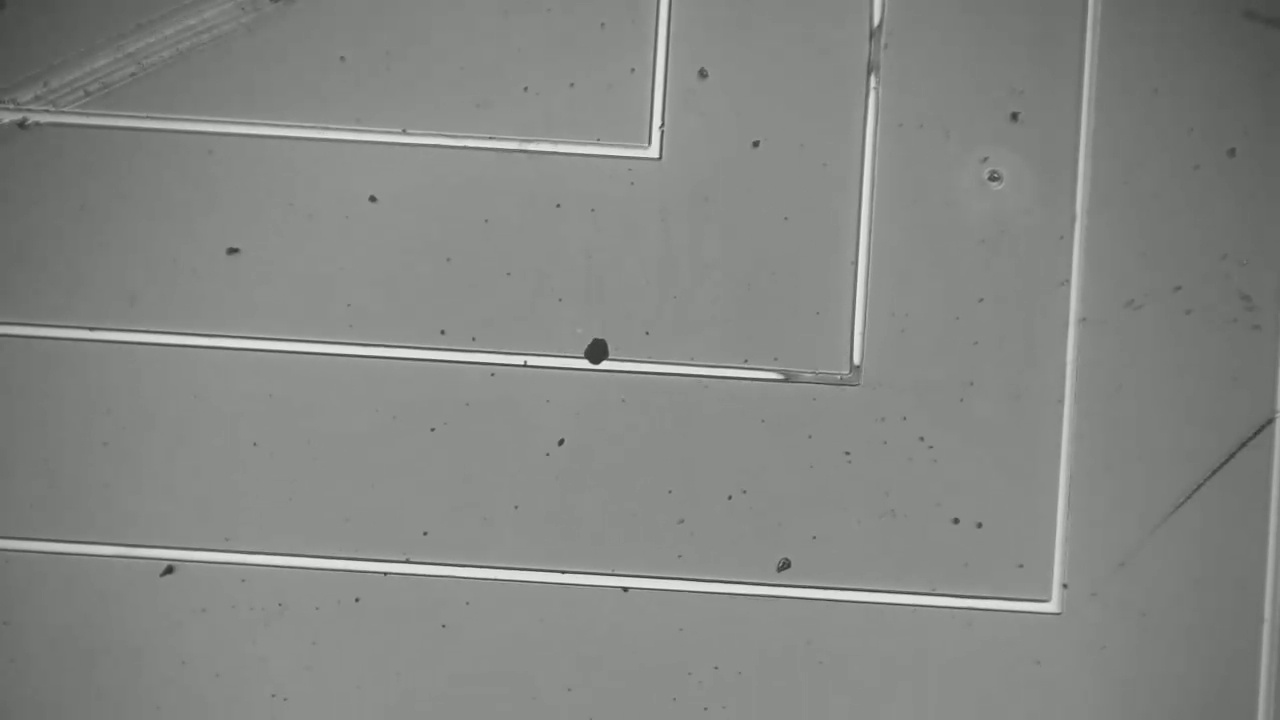gray_line: (856, 13, 894, 94), (770, 366, 870, 391), (838, 339, 874, 404)
scratch: (0, 4, 280, 143), (1135, 424, 1273, 550)
stains_enbedded: (577, 333, 616, 379)
